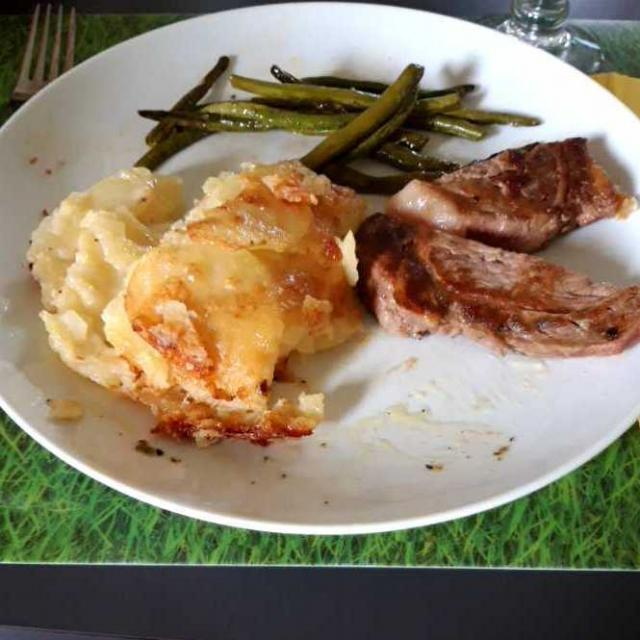beans: (108, 46, 546, 198)
beef: (362, 132, 636, 358)
potatoes: (26, 152, 375, 465)
